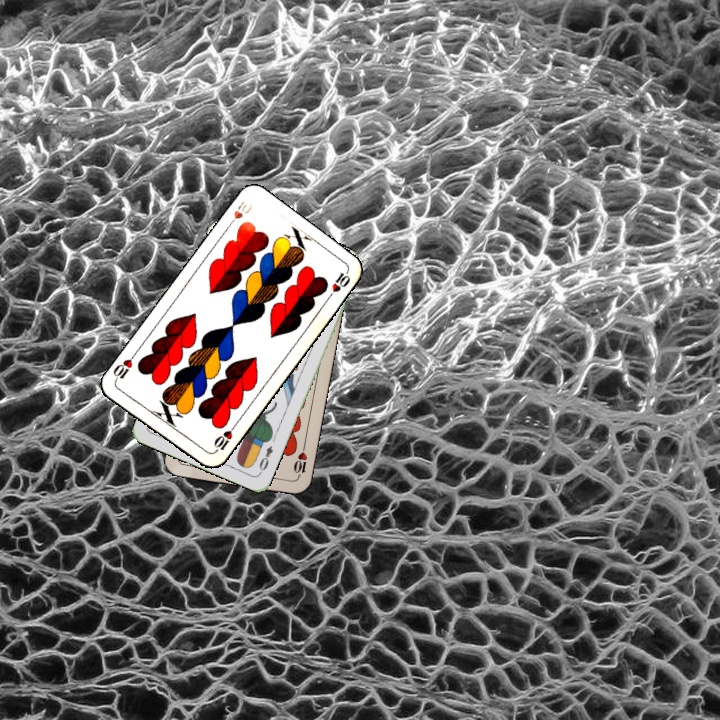EO: (255, 441, 276, 476)
H10: (223, 197, 255, 231), (209, 421, 238, 456), (289, 442, 310, 482)
